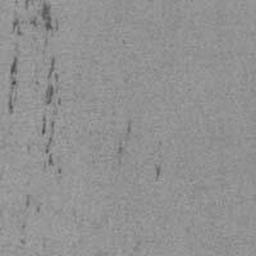Inclusion: (10, 0, 59, 49), (35, 56, 63, 106), (41, 114, 63, 174), (6, 55, 18, 115), (116, 120, 132, 155), (24, 193, 41, 212), (154, 165, 161, 182), (19, 237, 27, 244), (20, 223, 27, 229)
